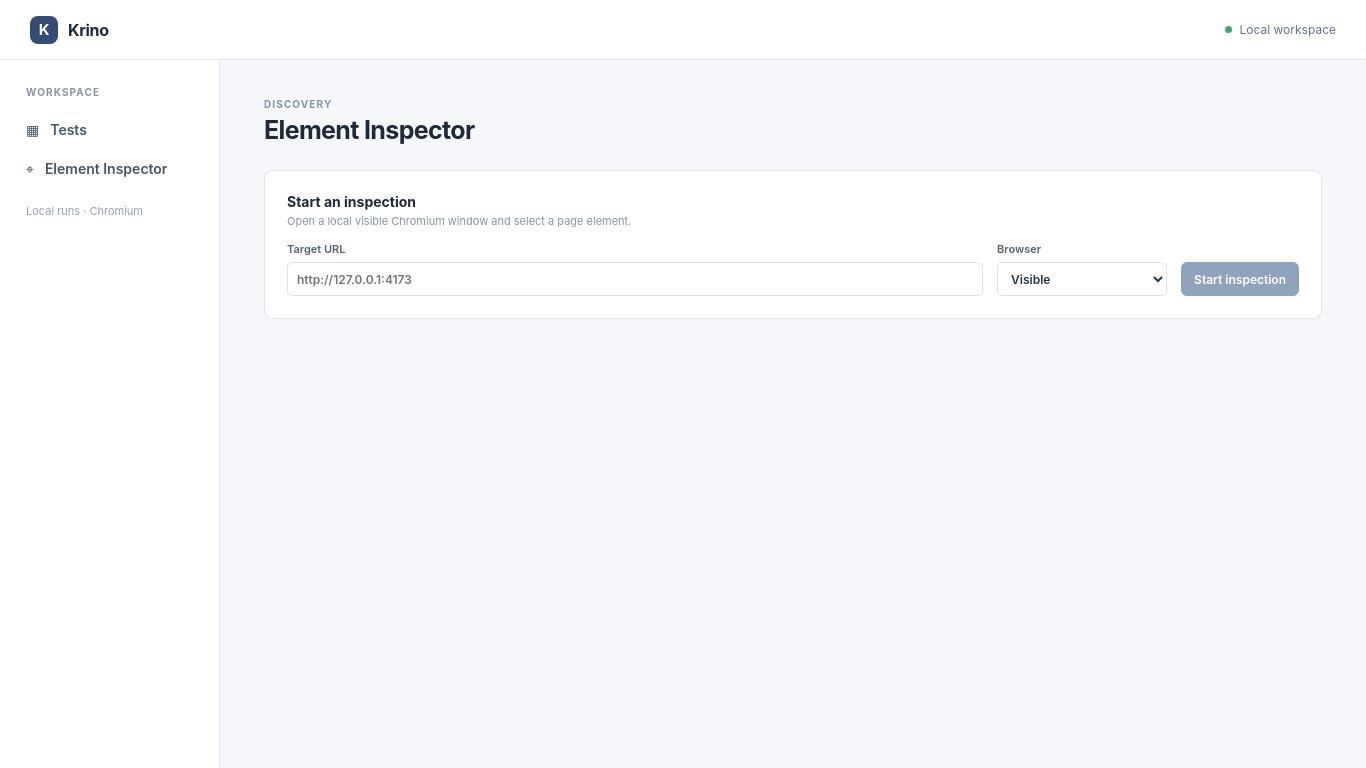
Scenario: Krino UI › starts an inspection, displays selected element data, and stops the session
Expected: the heading "Element Inspector" is shown, [264, 115, 474, 145]
Type "http://127.0.0.1:4173/inspect" into the field labelled "Target URL" at (635, 279), box [287, 262, 983, 296]
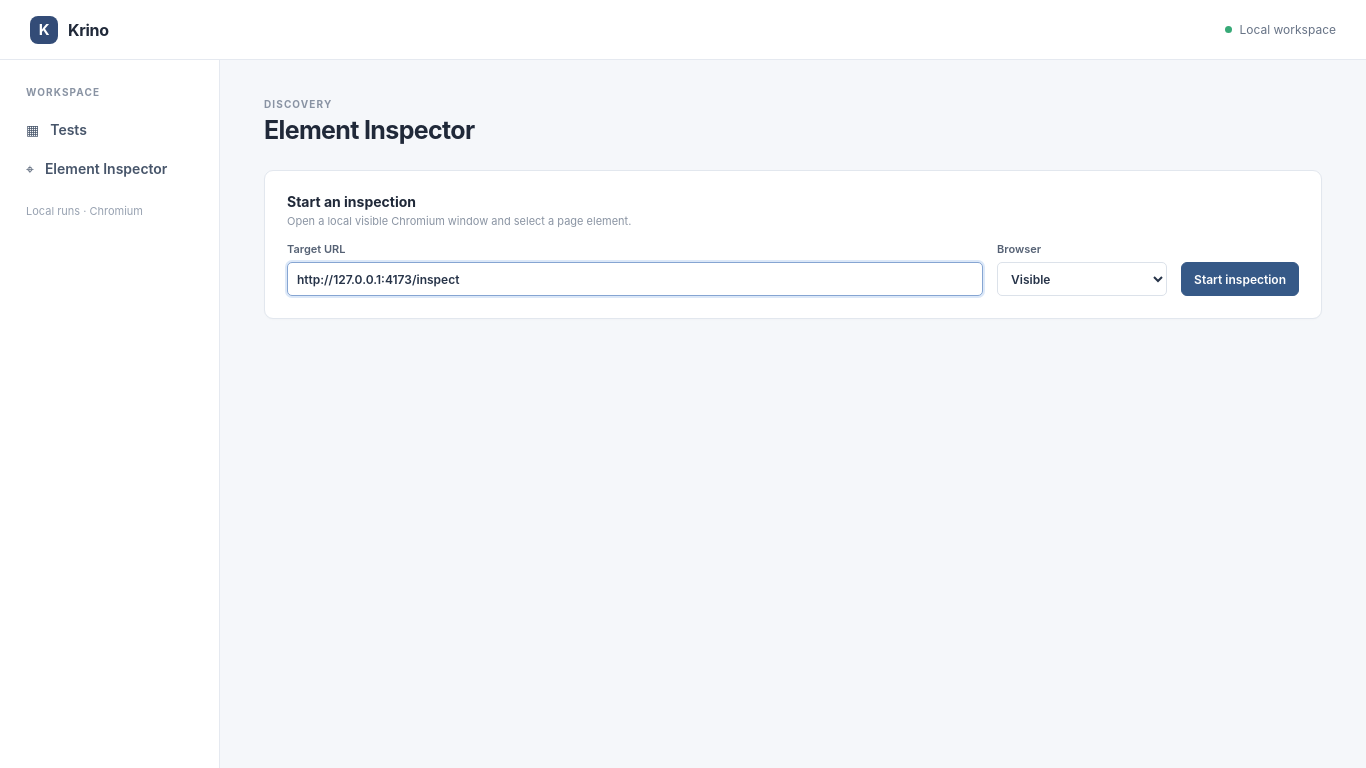
Click the button "Start inspection" at (1240, 279), box [1181, 262, 1299, 296]
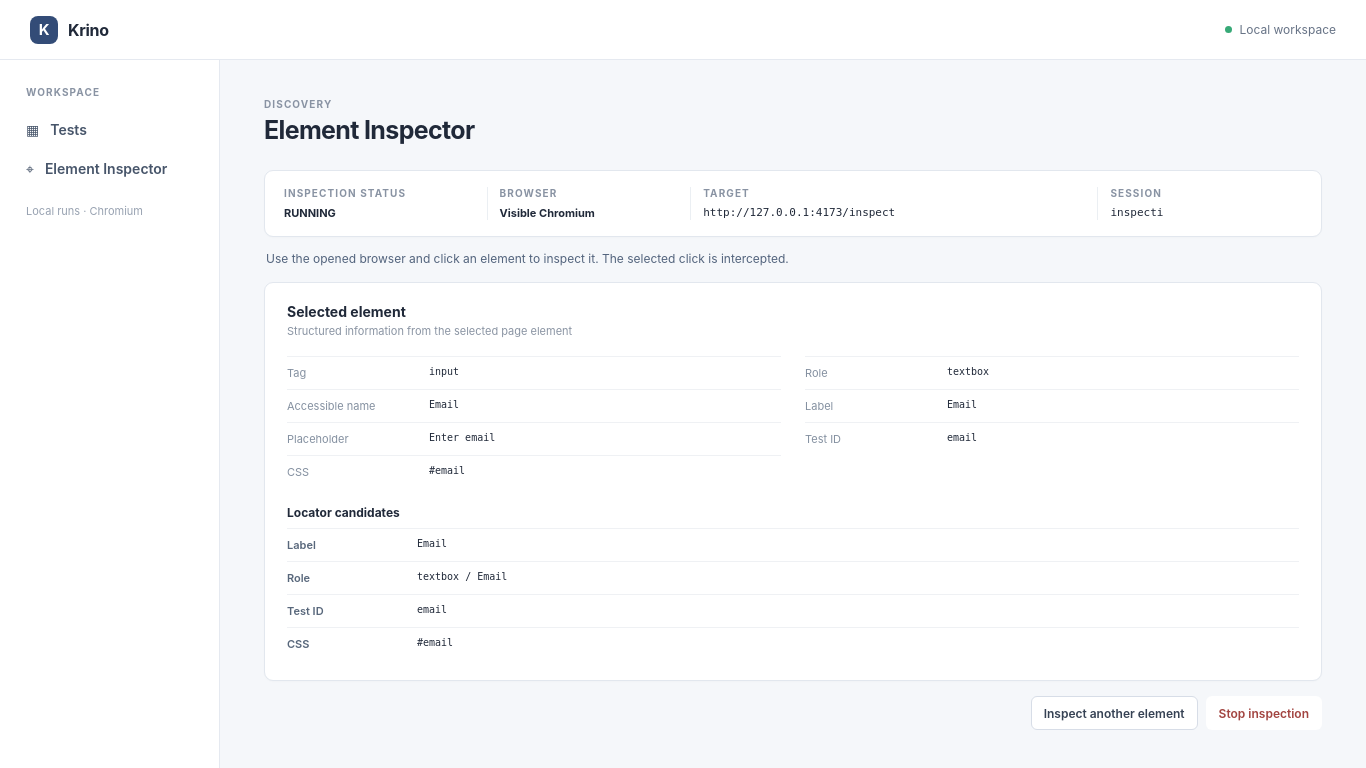
Expected: the text "RUNNING" is shown, [284, 206, 336, 220]
Expected: the heading "Selected element" is shown, [287, 303, 406, 320]
Expected: the text "textbox / Email" is shown, [417, 571, 507, 582]
Click the button "Stop inspection" at (1264, 713), box [1206, 696, 1322, 730]
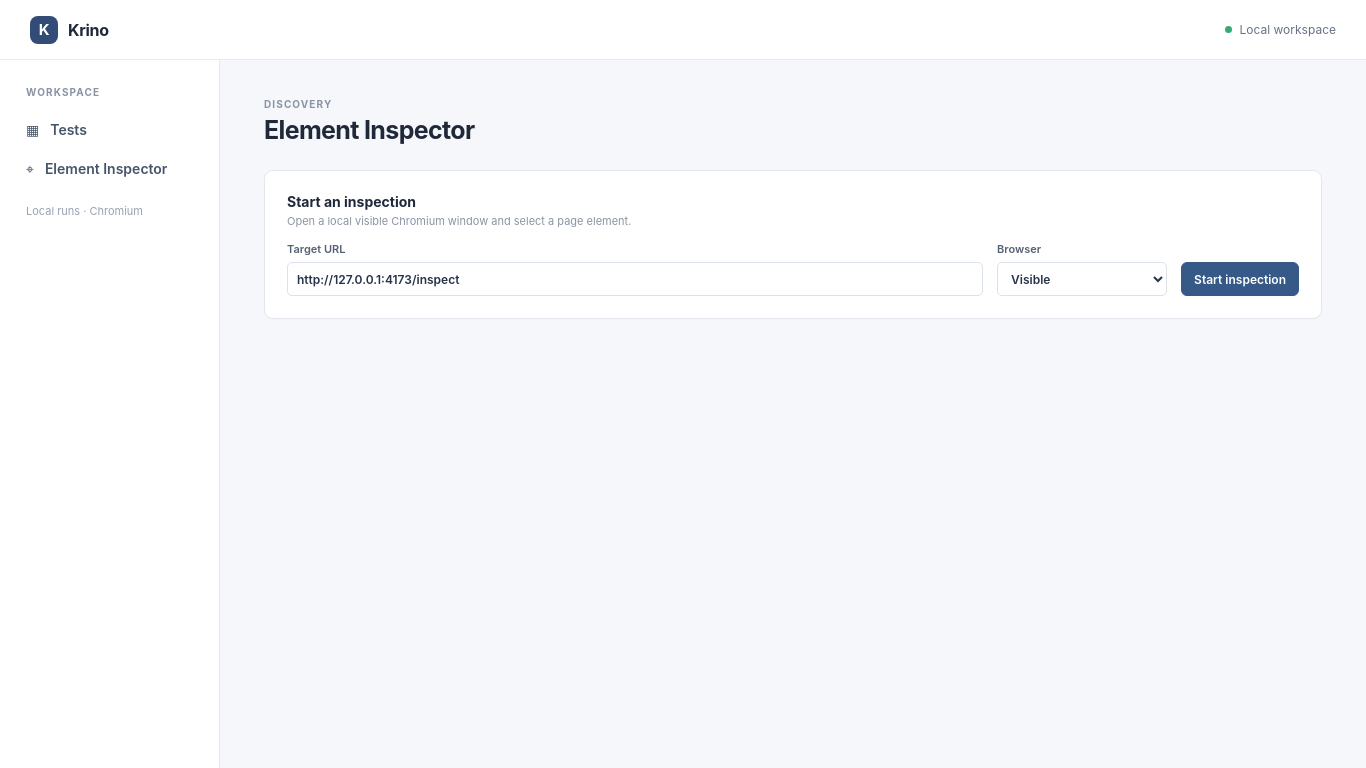
Expected: the heading "Start an inspection" is shown, [287, 193, 416, 210]
